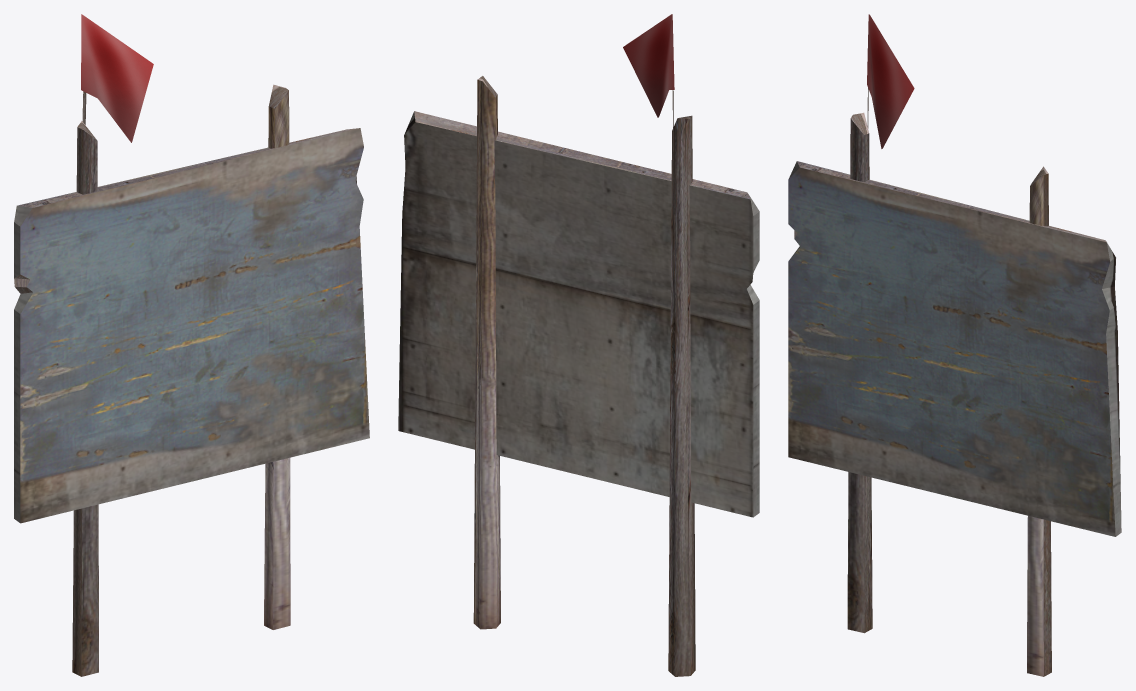
Rendered from Guidepost.FBX.
3 views of the same model, side by side, from view 1: azimuth 30°, elevation 25°; view 2: azimuth 150°, elevation 25°; view 3: azimuth 330°, elevation 25° (orthographic). The views are drawn at different scales.
Visible parts, largest first — view 1: Guidepost; view 2: Guidepost; view 3: Guidepost.
Boxes of the visible parts, left/top/right/bottom form: Guidepost: left=14, top=14, right=369, bottom=676; Guidepost: left=398, top=14, right=759, bottom=676; Guidepost: left=788, top=14, right=1121, bottom=676.
Bounding box in the file's own units: 31.05 × 55.32 × 2.87.
Materials: 1 (1 with a texture image).
